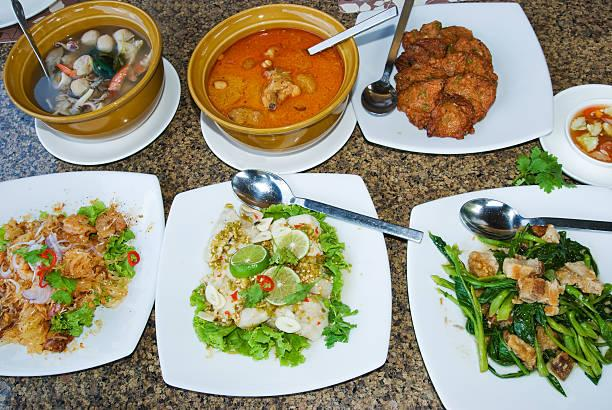Braised Crucian Carp: (154, 174, 386, 398), (403, 185, 611, 410), (1, 171, 165, 381), (349, 2, 551, 157), (194, 6, 359, 178), (3, 2, 166, 144)
